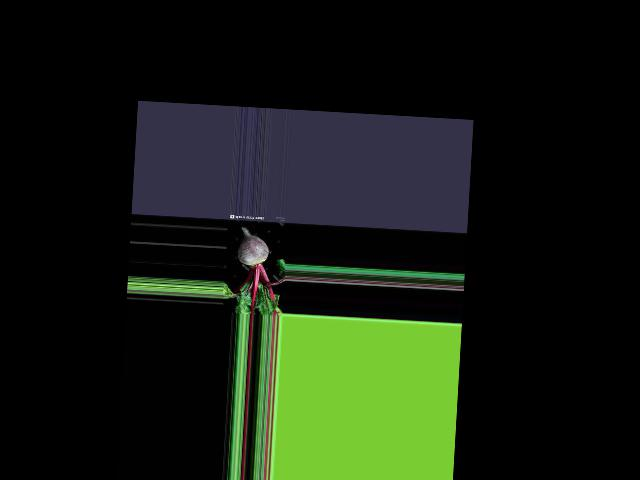beet: (222, 226, 288, 316)
